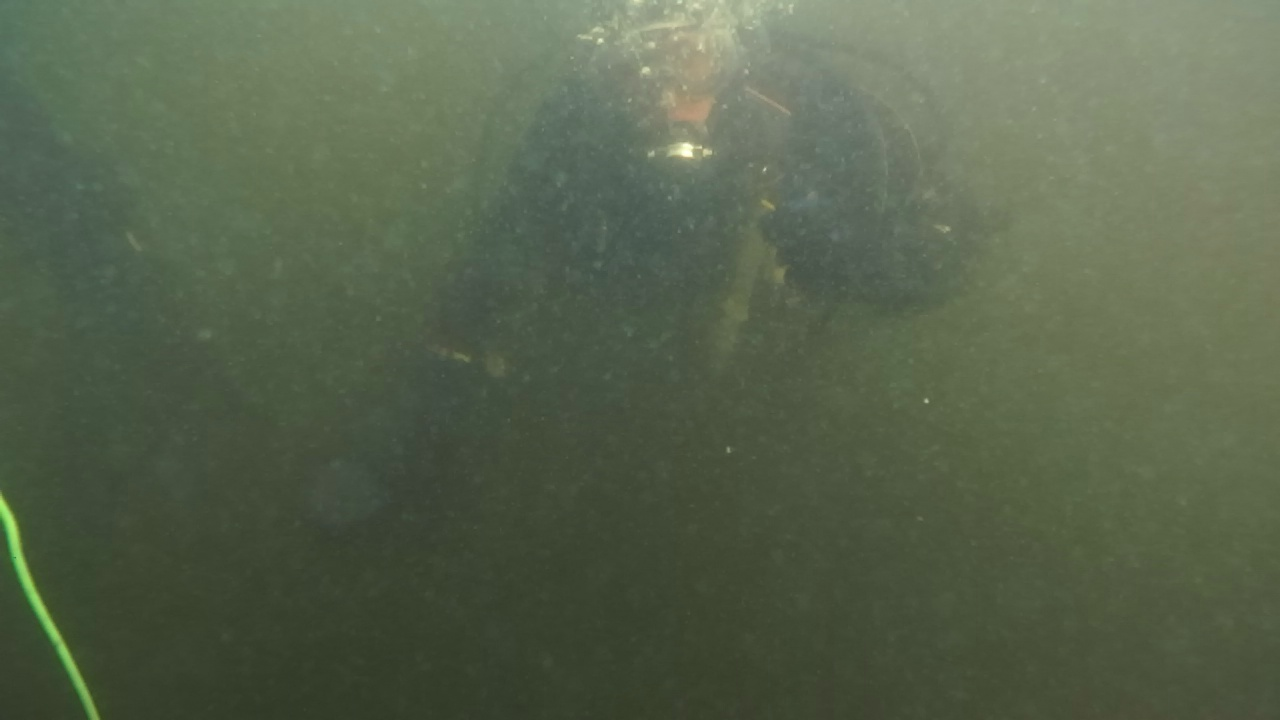Diver: (394, 8, 996, 422)
Head: (584, 6, 770, 182)
